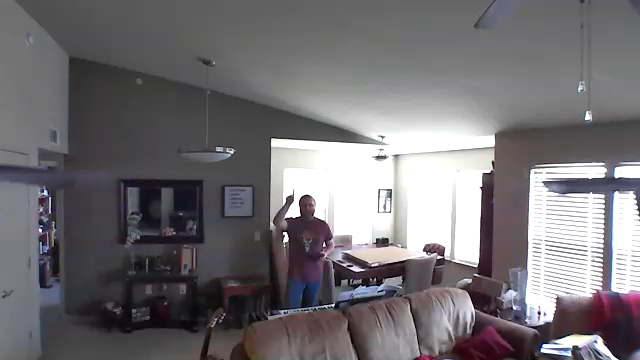up: (282, 186, 297, 207)
